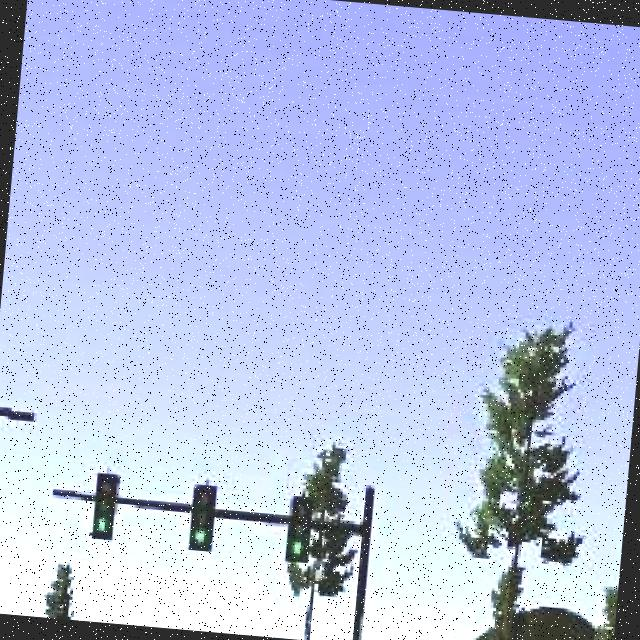Zielone swiatlo: (284, 495, 316, 563), (188, 484, 217, 554), (89, 473, 115, 540)
